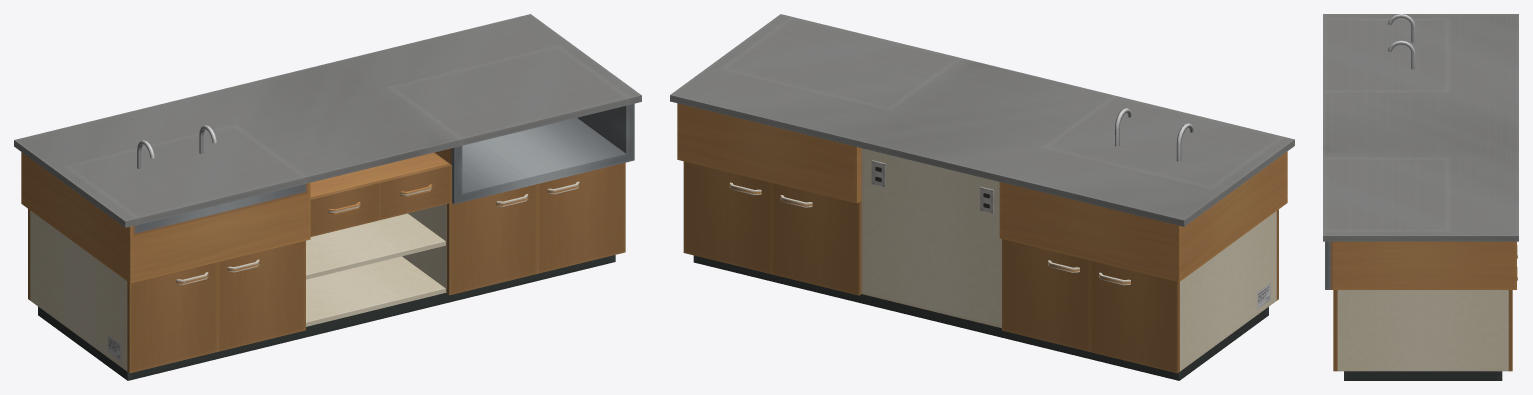
Rendered from KR_Counter_01_01.fbx.
The picture shows the model from 3 angles, left to right: view 1: azimuth 30°, elevation 25°; view 2: azimuth 150°, elevation 25°; view 3: azimuth 270°, elevation 25°; orthographic projection. The views are drawn at different scales.
Visible parts, largest first — view 1: teachers_counter, tabletop2, tabletop1, door2_l, door1_l, door1_r, door2_r, drawer2, drawer1; view 2: teachers_counter, tabletop2, tabletop1, door4_r, door3_r, door4_l, door3_l; view 3: teachers_counter, tabletop2, tabletop1, door4_l, door2_r, nozzle_l2, nozzle_r2.
Part boxes in pixels (box(x1,y1,x2,y2)): teachers_counter: box(14, 14, 641, 380); tabletop2: box(391, 46, 629, 145); tabletop1: box(67, 125, 305, 224); door2_l: box(447, 184, 537, 295); door1_l: box(127, 262, 217, 373); door1_r: box(217, 240, 305, 351); door2_r: box(537, 162, 625, 273); drawer2: box(378, 163, 451, 219); drawer1: box(310, 181, 379, 236); teachers_counter: box(670, 14, 1294, 380); tabletop2: box(722, 17, 959, 109); tabletop1: box(1045, 95, 1282, 187); door4_r: box(771, 183, 861, 295); door3_r: box(1090, 260, 1179, 373); door4_l: box(683, 161, 771, 274); door3_l: box(1002, 239, 1089, 351); teachers_counter: box(1323, 14, 1518, 380); tabletop2: box(1323, 158, 1447, 230); tabletop1: box(1323, 19, 1447, 91); door4_l: box(1508, 267, 1517, 371); door2_r: box(1333, 290, 1337, 371); nozzle_l2: box(1388, 14, 1415, 42); nozzle_r2: box(1388, 40, 1415, 69).
Size of the model in its own units: 252 by 94.85 by 94.
